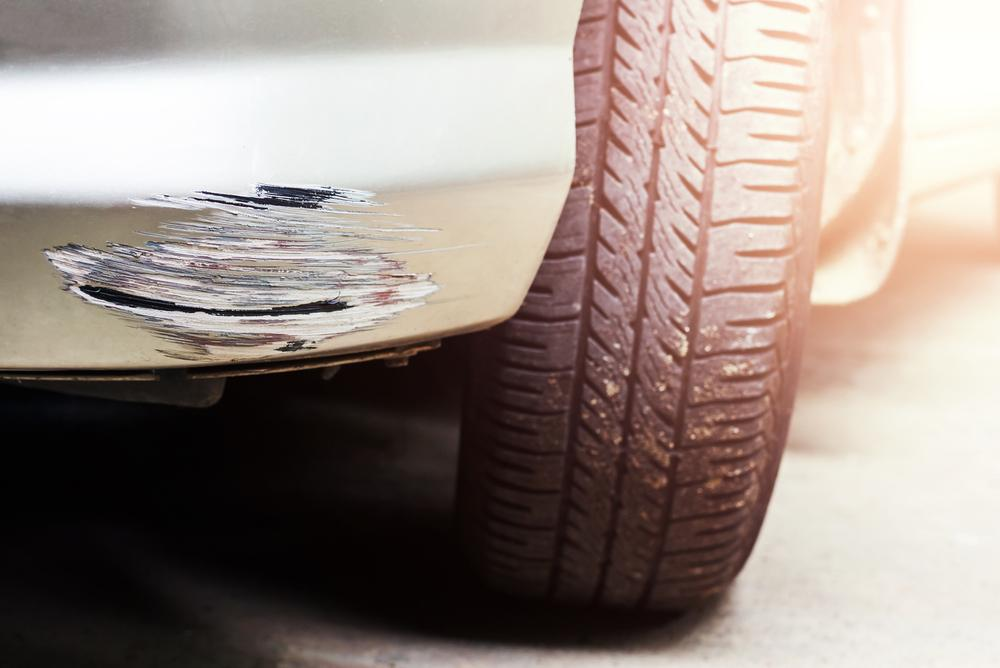scratch: (11, 177, 454, 364)
